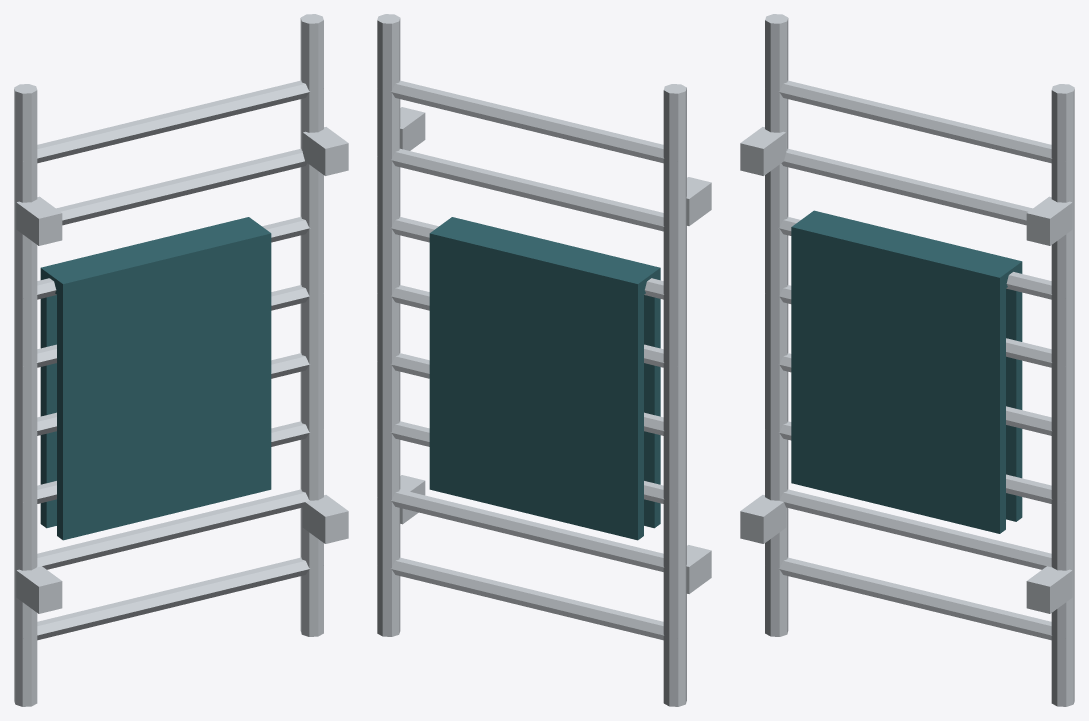
The model's file is FN_Rail_Towel.glb.
The picture shows the model from 3 angles, left to right: view 1: azimuth 30°, elevation 25°; view 2: azimuth 150°, elevation 25°; view 3: azimuth 330°, elevation 25°; orthographic projection.
Visible parts, largest first — view 1: FN_Rail_Towel; view 2: FN_Rail_Towel; view 3: FN_Rail_Towel.
Boxes of the visible parts, <box> form: FN_Rail_Towel: <box>14,14,348,706</box>; FN_Rail_Towel: <box>377,14,711,706</box>; FN_Rail_Towel: <box>740,14,1074,706</box>.
Size of the model in its own units: 0.476 by 0.9 by 0.096.
1 material, 1 textured.
